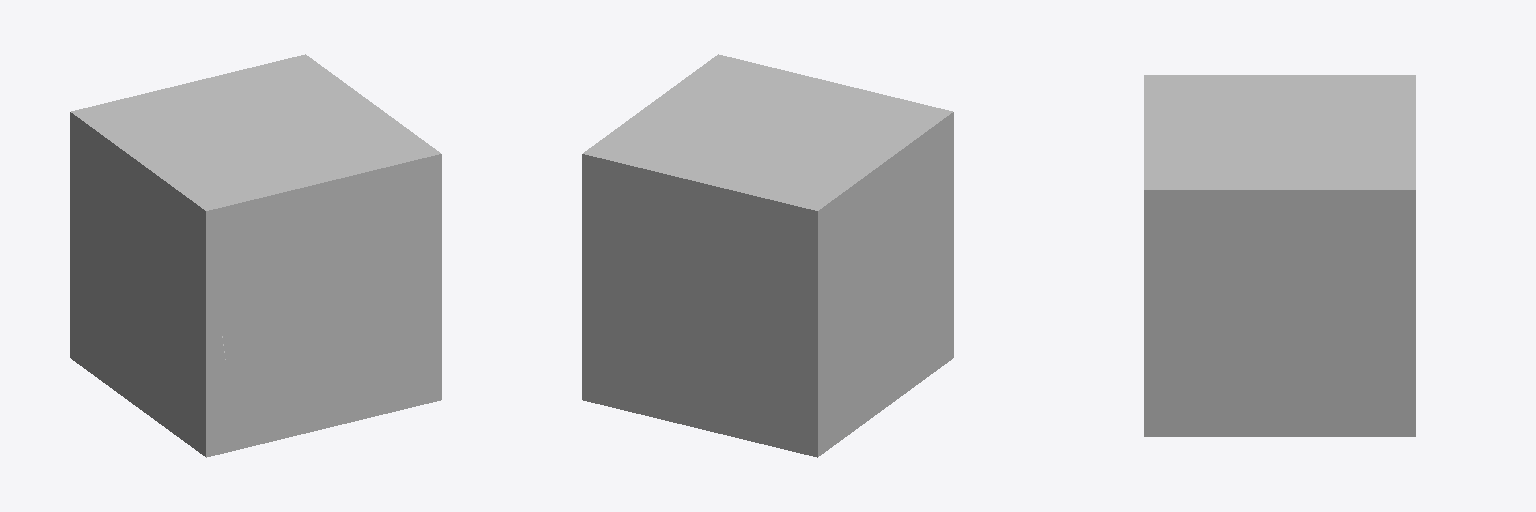
File: Arrow_cube_bottle_enlarge.obj
3 views of the same model, side by side, from view 1: azimuth 30°, elevation 25°; view 2: azimuth 150°, elevation 25°; view 3: azimuth 270°, elevation 25° (orthographic).
Parts seen in each view (by area): view 1: Bottle.001_Cube.003; view 2: Bottle.001_Cube.003; view 3: Bottle.001_Cube.003.
Part boxes in pixels (x1,y1,x2,y2): Bottle.001_Cube.003: (70,54,441,457); Bottle.001_Cube.003: (582,54,953,457); Bottle.001_Cube.003: (1144,75,1415,436).
Bounding box in the file's own units: 0.08 × 0.08 × 0.08.